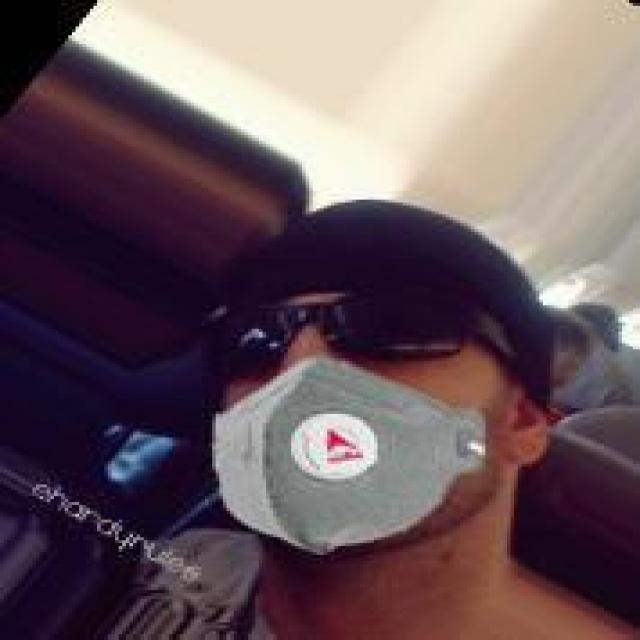mask: (190, 161, 572, 596)
